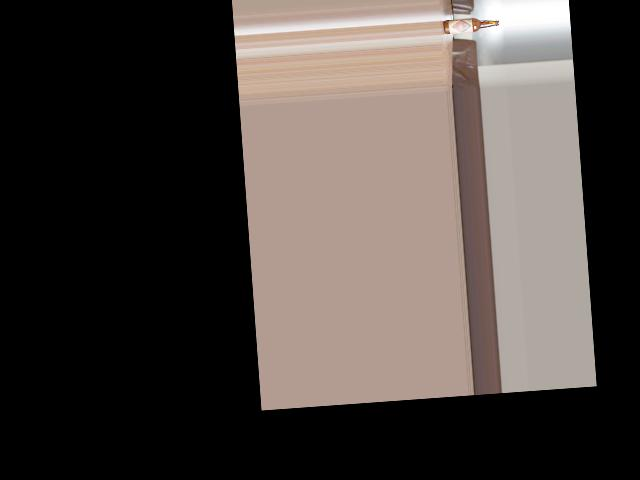beer: (443, 16, 499, 33)
